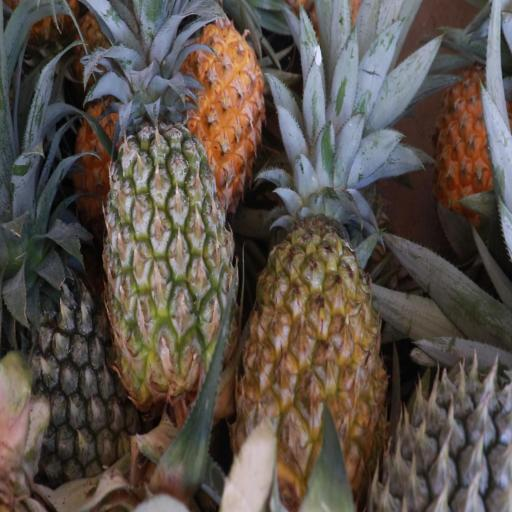------------------------------: (104, 114, 234, 384)
Pineapple - v8 v1: (240, 183, 382, 508), (118, 10, 264, 164), (432, 69, 509, 210)
